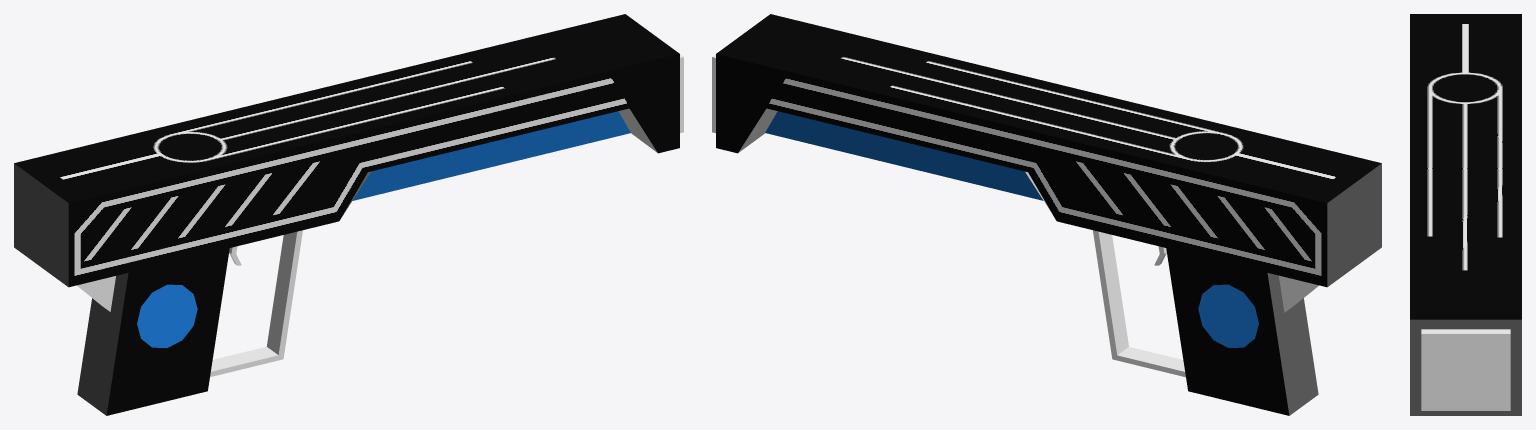
File: Test_Shotgun.fbx
3 views of the same model, side by side, from view 1: azimuth 30°, elevation 25°; view 2: azimuth 150°, elevation 25°; view 3: azimuth 270°, elevation 25° (orthographic). The views are drawn at different scales.
Parts seen in each view (by area): view 1: ShotGun; view 2: ShotGun; view 3: ShotGun.
Part boxes in pixels (x1,y1,x2,y2): ShotGun: [14, 14, 683, 415]; ShotGun: [712, 14, 1381, 415]; ShotGun: [1410, 14, 1521, 415].
Bounding box in the file's own units: 123 × 44.25 × 18.67.
